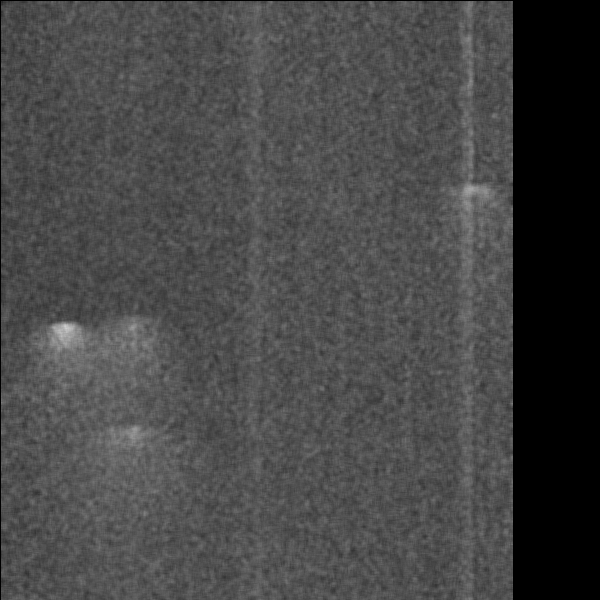spark: (38, 314, 91, 404), (104, 419, 157, 472), (112, 314, 148, 383), (443, 177, 501, 209)
